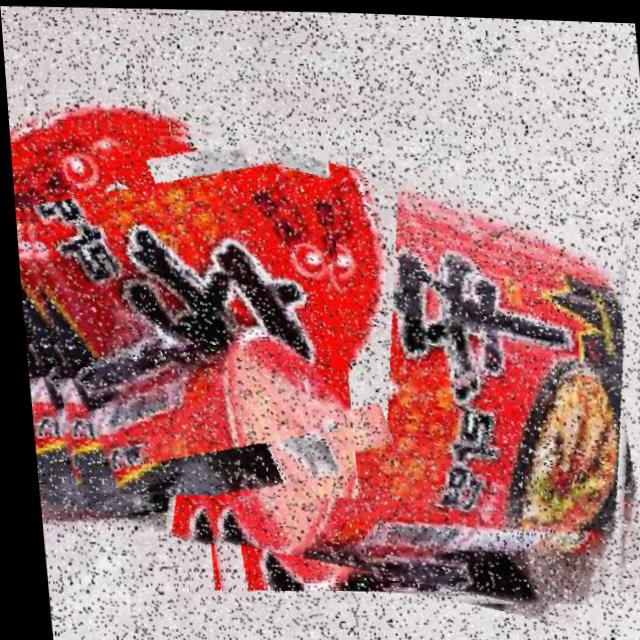Miscellaneous: (144, 132, 640, 614), (7, 112, 350, 501)
